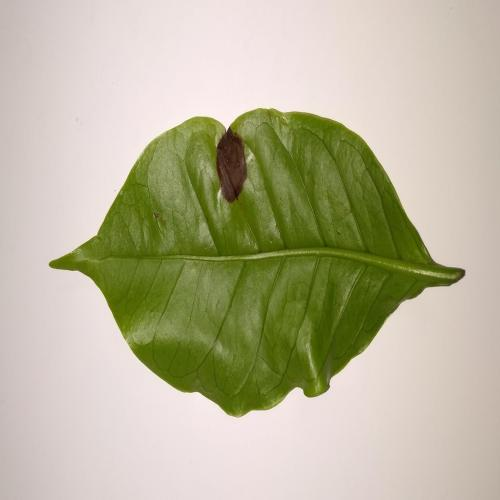miner: (216, 126, 247, 202)
